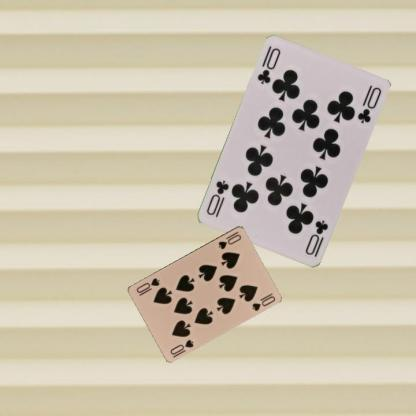10c: (255, 43, 282, 88), (303, 218, 330, 256)
10s: (216, 228, 243, 250), (168, 336, 194, 356)
